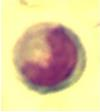monocyte: (9, 21, 86, 94)
